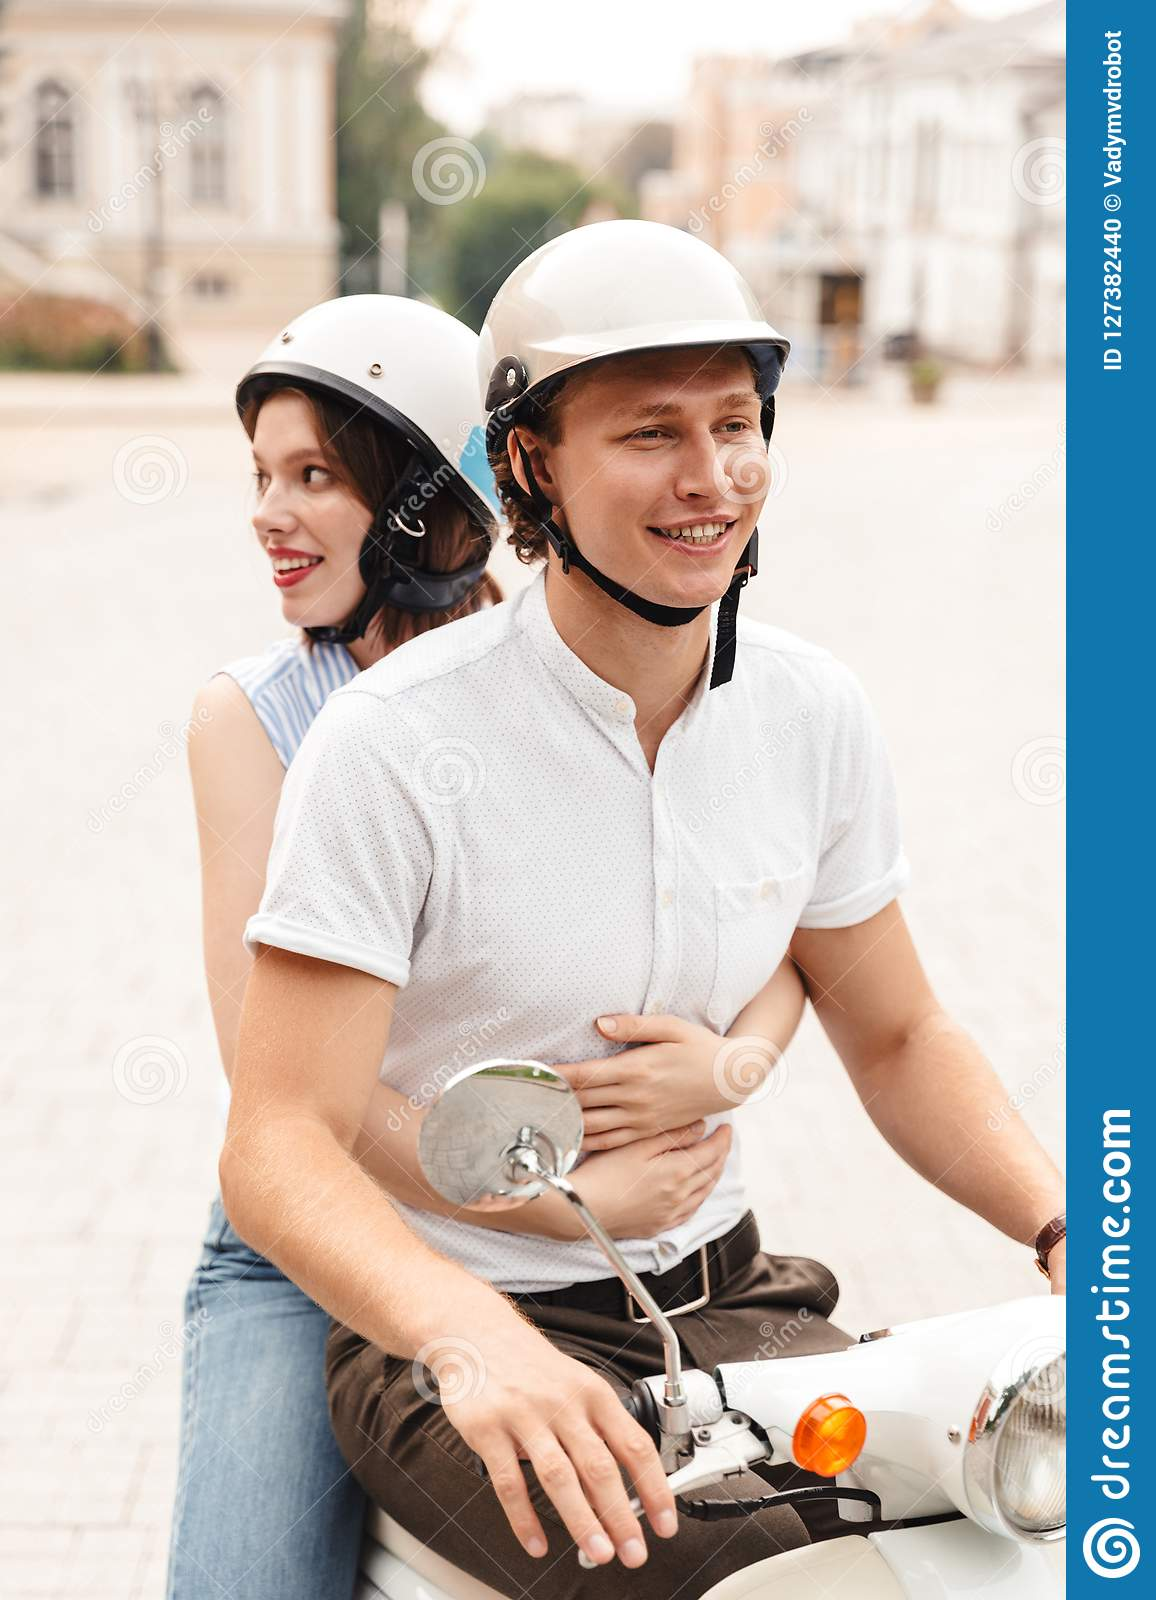helmet: (233, 278, 502, 508), (459, 230, 807, 386)
